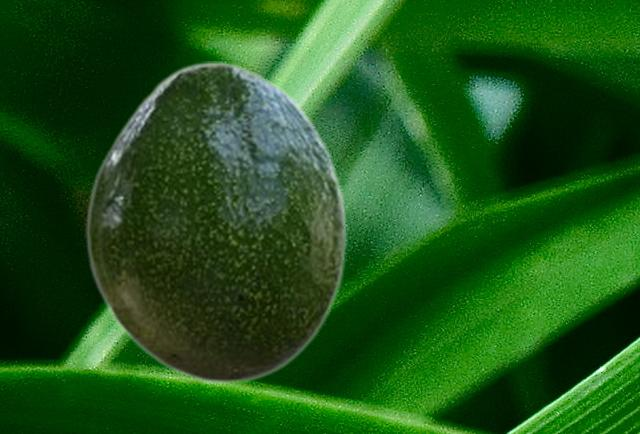avocado: (85, 61, 346, 384)
